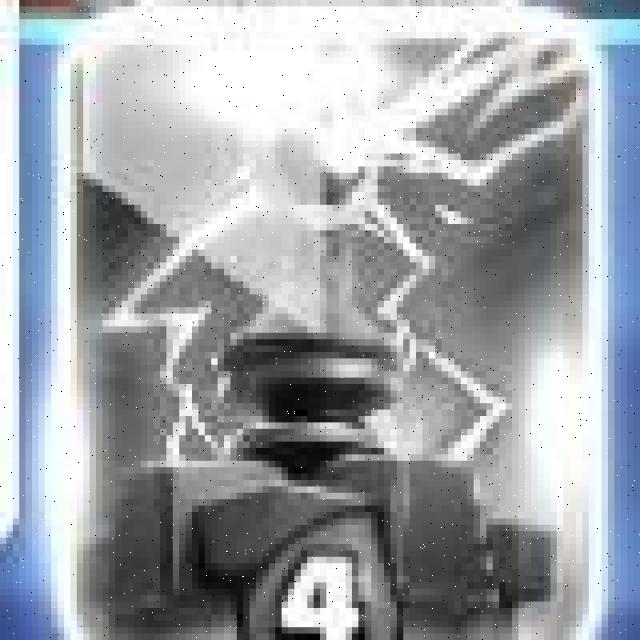Evolved_Tesla: (56, 4, 604, 639)
